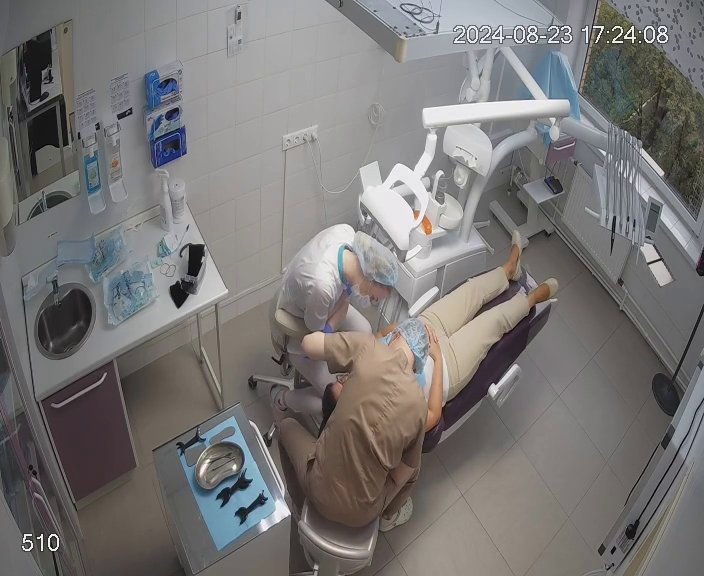Patient: (308, 229, 560, 497)
